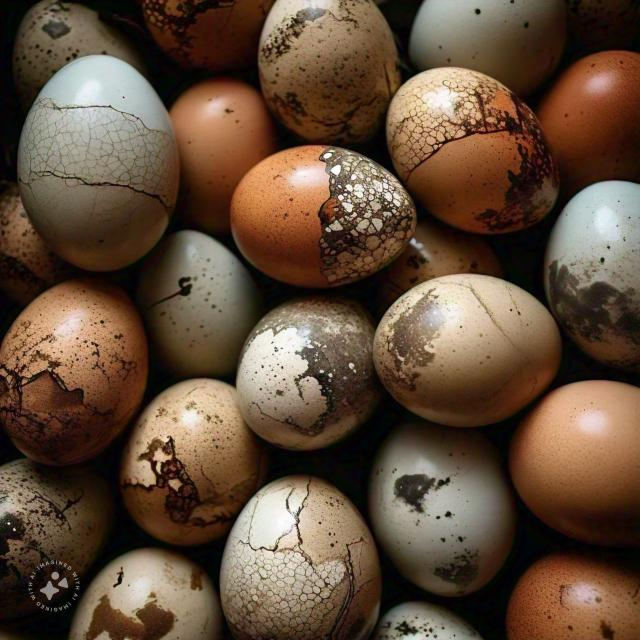Blood Stained Egg: (218, 139, 423, 307), (393, 63, 568, 258), (55, 534, 219, 640), (0, 289, 121, 410)
